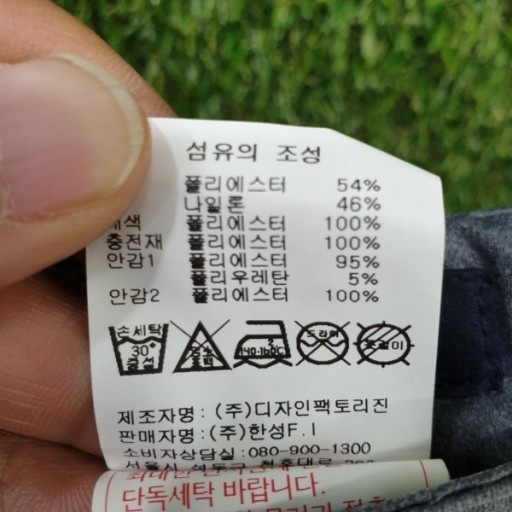KR_hand_wash_30_neutral: (108, 320, 170, 378)
KR_hang_dry_in_shade: (353, 320, 413, 369)
KR_iron_medium_temp_with_cloth: (234, 319, 295, 371)
KR_no_chlorine_bleach: (173, 318, 232, 375)
KR_no_dry_clean: (297, 319, 351, 369)
